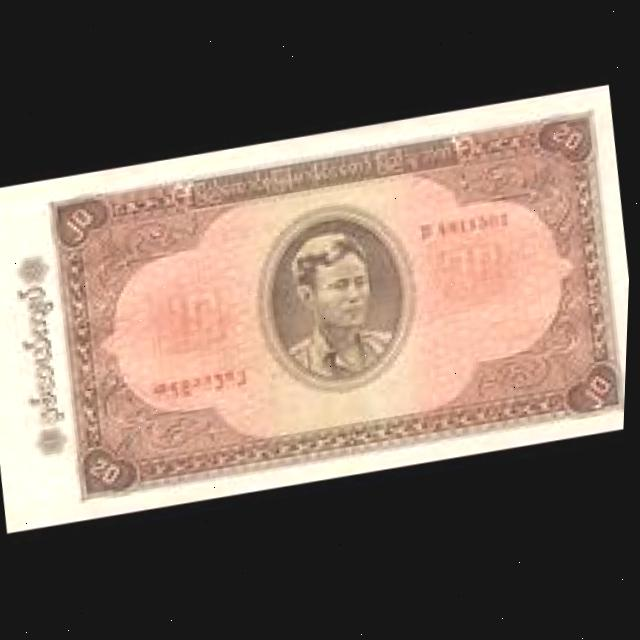banknote: (0, 102, 637, 526)
